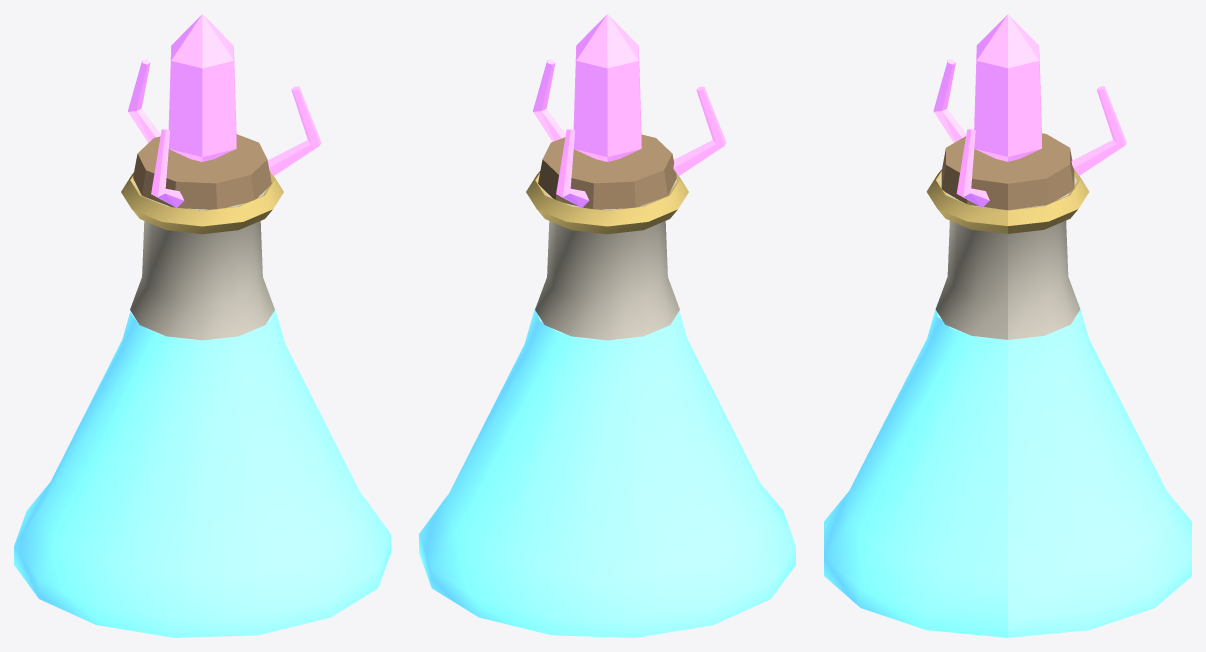
Rendered from pickups-and-collectibles-mana-potion-3cd0fca0__19882.glb.
The picture shows the model from 3 angles, left to right: view 1: azimuth 30°, elevation 25°; view 2: azimuth 150°, elevation 25°; view 3: azimuth 270°, elevation 25°; orthographic projection.
Visible parts, largest first — view 1: body/gem, body/bone, body/arcane, body/timber, body/gold; view 2: body/gem, body/bone, body/arcane, body/timber, body/gold; view 3: body/gem, body/bone, body/arcane, body/timber, body/gold.
Boxes of the visible parts, x1,y1,x2,y2 form: body/gem: (14,306,390,637); body/bone: (130,180,274,340); body/arcane: (128,14,321,207); body/timber: (133,134,271,209); body/gold: (121,171,283,234); body/gem: (419,306,795,637); body/bone: (535,180,679,340); body/arcane: (533,14,726,207); body/timber: (538,134,676,209); body/gold: (526,171,688,234); body/gem: (824,302,1191,637); body/bone: (935,176,1080,339); body/arcane: (933,14,1126,207); body/timber: (941,133,1074,210); body/gold: (926,169,1089,233).
Size of the model in its own units: 0.25 by 0.398 by 0.2437.
